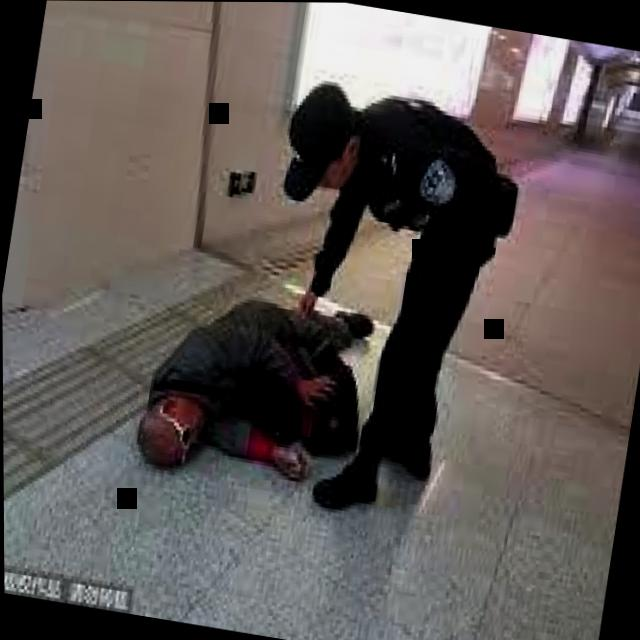Fall-Detected: (105, 242, 390, 506)
